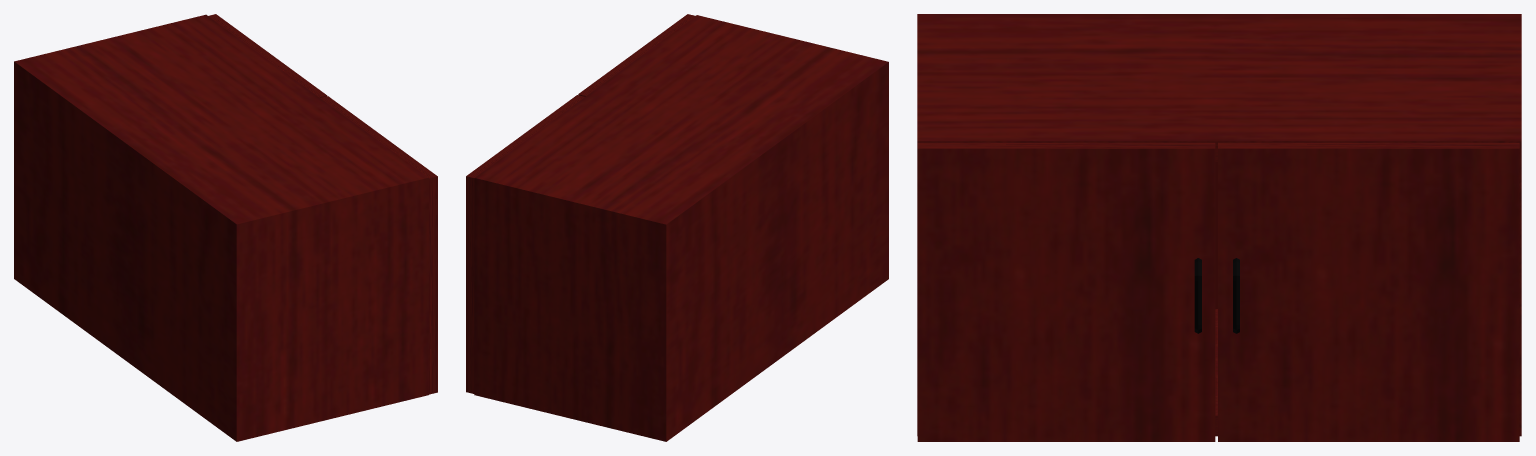
File: cabinet.fbx
3 views of the same model, side by side, from view 1: azimuth 30°, elevation 25°; view 2: azimuth 150°, elevation 25°; view 3: azimuth 270°, elevation 25° (orthographic). The views are drawn at different scales.
Parts seen in each view (by area): view 1: cabin, cabinetdoor, cabinetdoor1; view 2: cabin, cabinetdoor1, cabinetdoor; view 3: cabinetdoor1, cabinetdoor, cabin, cabinetdoorknob.
Part boxes in pixels (x1,y1,x2,y2): cabin: (14,14,428,441); cabinetdoor: (320,96,437,394); cabinetdoor1: (208,14,327,97); cabin: (474,15,888,441); cabinetdoor1: (466,95,584,393); cabinetdoor: (578,14,694,96); cabinetdoor1: (1218,142,1519,441); cabinetdoor: (917,142,1215,441); cabin: (917,14,1521,436); cabinetdoorknob: (1194,258,1201,333).
Size of the model in its own units: 1.03 by 1 by 1.86.
